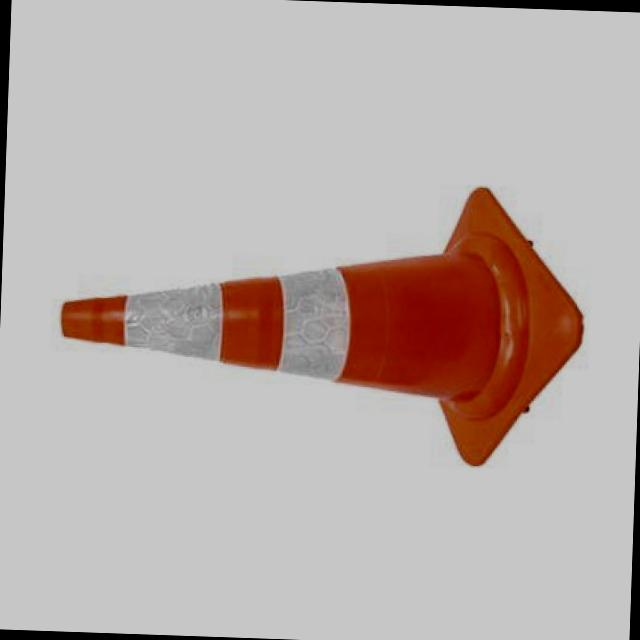cone: (43, 110, 610, 508)
